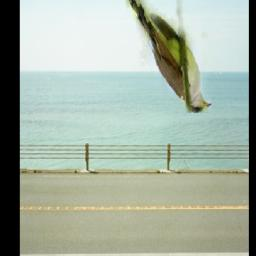Cuckoo: (125, 0, 211, 114)
